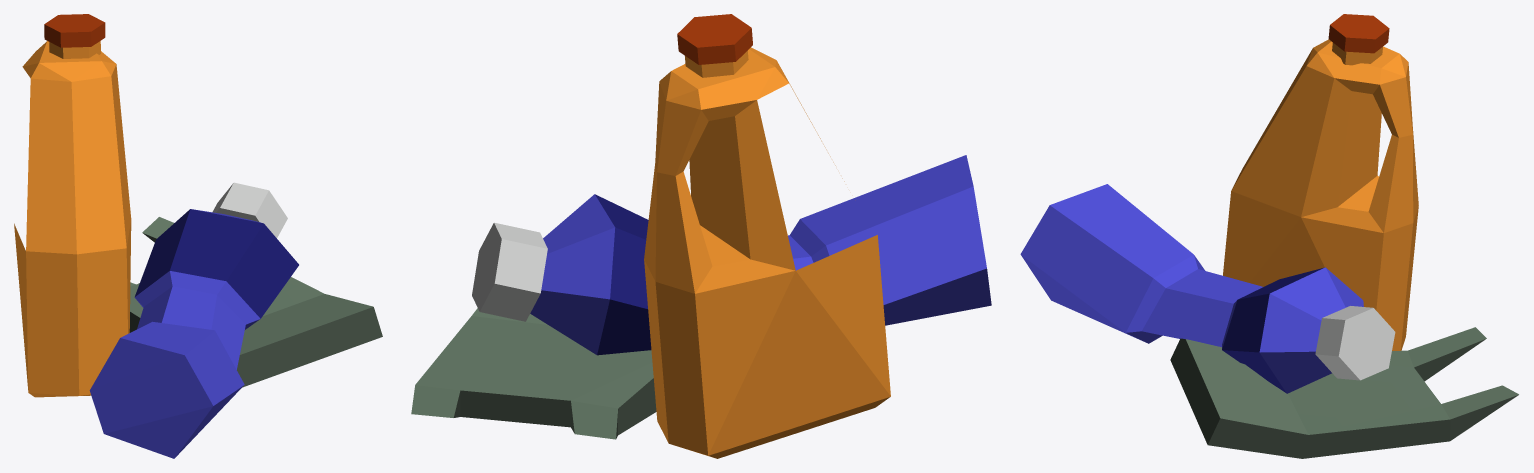
File: PolymerScrap_3D.glb
3 renders of one model, left to right at view 1: azimuth 30°, elevation 25°; view 2: azimuth 150°, elevation 25°; view 3: azimuth 270°, elevation 25°, orthographic. The views are drawn at different scales.
Visible parts, largest first — view 1: polymerScrapLowPoly; view 2: polymerScrapLowPoly; view 3: polymerScrapLowPoly.
Boxes of the visible parts, x1,y1,x2,y2 form: polymerScrapLowPoly: (14,14,382,458); polymerScrapLowPoly: (411,14,991,458); polymerScrapLowPoly: (1020,14,1518,458).
Bounding box in the file's own units: 0.2731 × 0.2639 × 0.359.
1 material, 1 textured.
